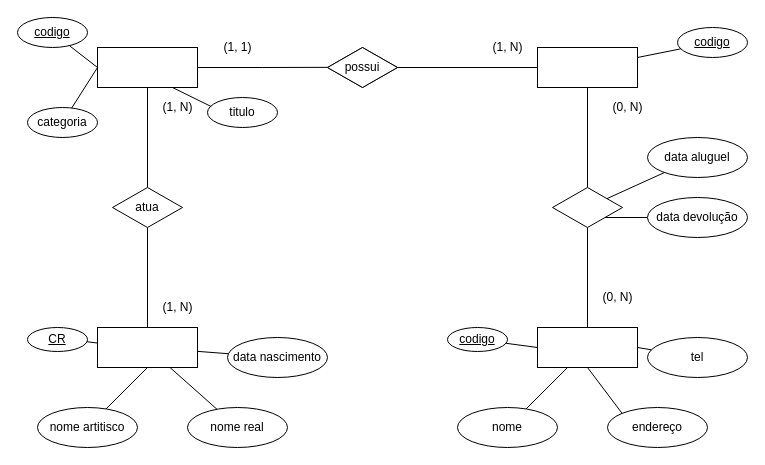
Image size: 765x465. Some labels were removed from this diagram. Each missing label, with the centre of its shape:
"aluga" goes at point 587,207.
"Ator" goes at point 147,347.
"Cliente" goes at point 587,347.
"DVD" goes at point 587,67.
"Filme" goes at point 147,67.
